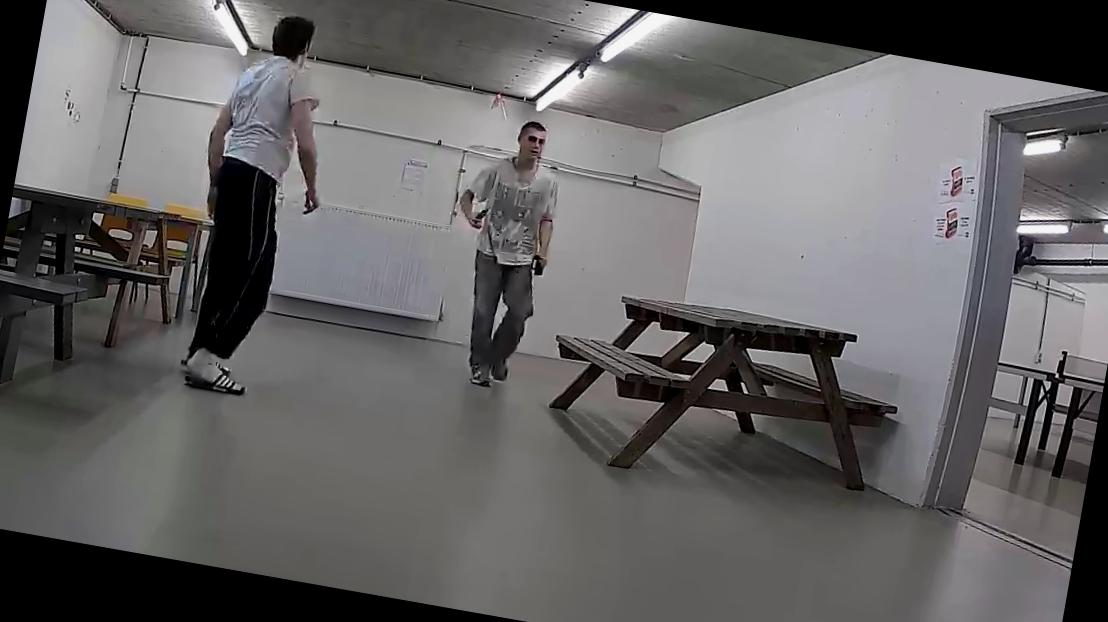korban: (162, 1, 360, 410), (420, 109, 578, 405)
